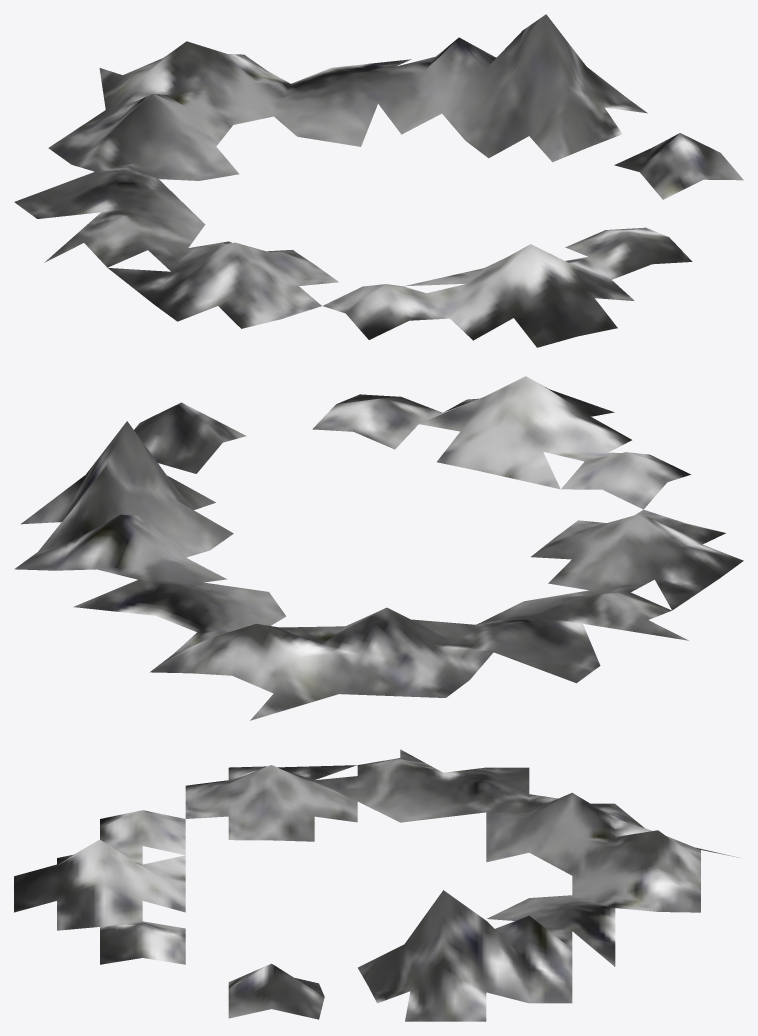
The model's file is crater02.FBX.
The picture shows the model from 3 angles, top to bottom: view 1: azimuth 30°, elevation 25°; view 2: azimuth 150°, elevation 25°; view 3: azimuth 270°, elevation 25°; orthographic projection. The views are drawn at different scales.
Visible parts, largest first — view 1: crater02; view 2: crater02; view 3: crater02.
Boxes of the visible parts, x1,y1,x2,y2 form: crater02: [14, 14, 743, 347]; crater02: [14, 376, 743, 720]; crater02: [14, 749, 739, 1021].
Bounding box in the file's own units: 35.23 × 6.13 × 39.93.
